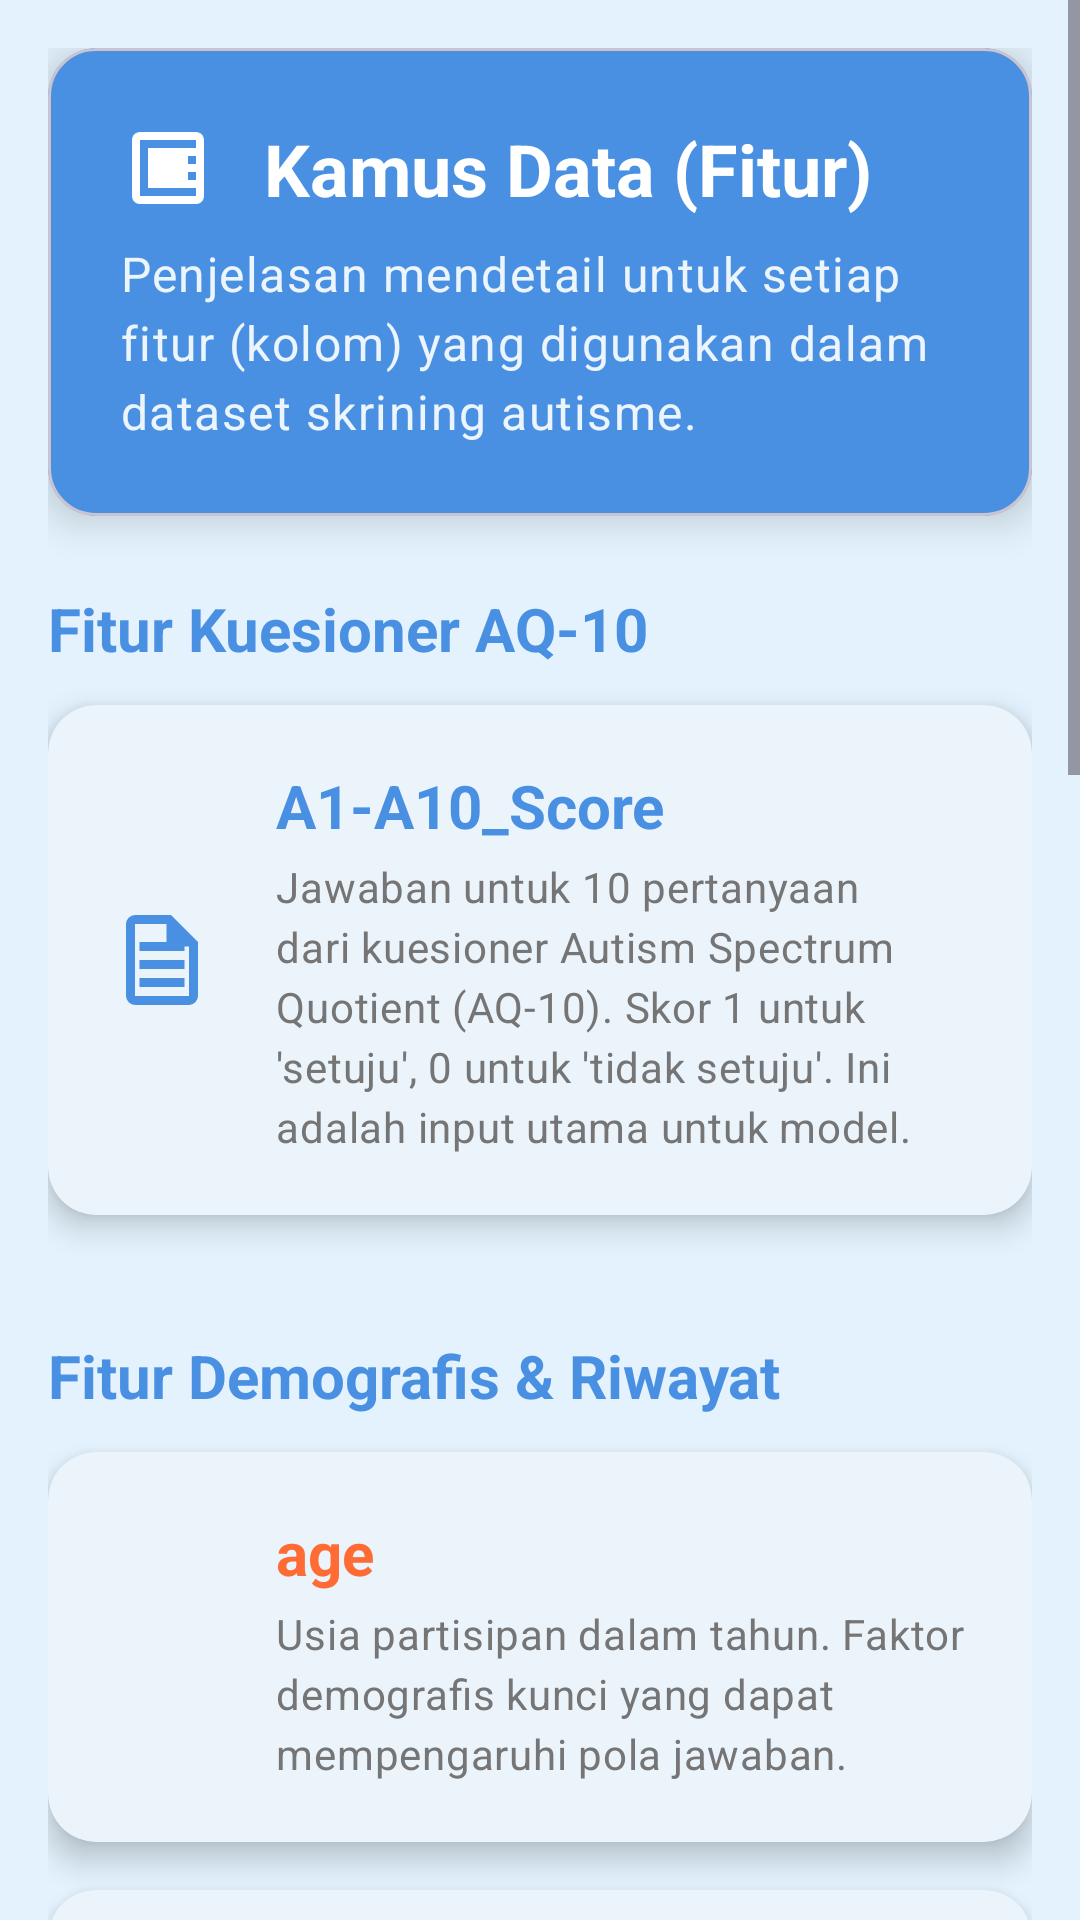

Where icons sit on this 1080 × 1920 app screen, as (x1, y1, x2, y2):
questionnaire: (126, 915, 198, 1005)
